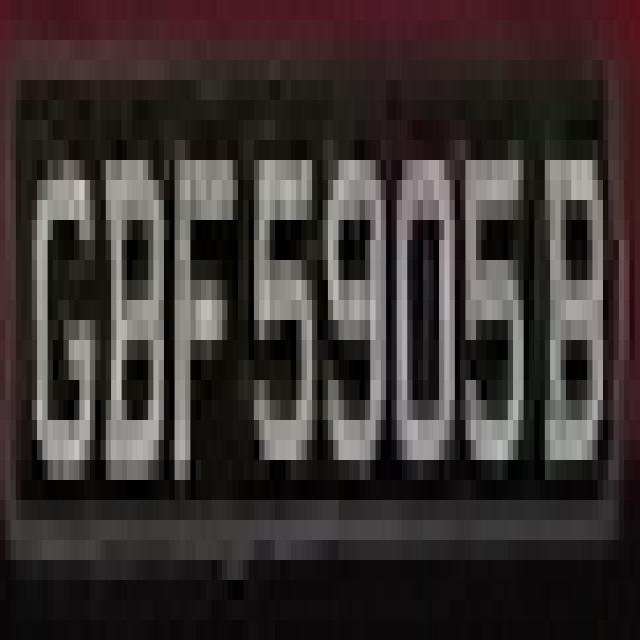0: (381, 60, 460, 460)
5: (238, 100, 317, 500), (455, 100, 524, 500)
9: (318, 120, 392, 520)
B: (539, 80, 619, 520), (95, 100, 169, 500)
F: (164, 80, 238, 560)
G: (21, 100, 106, 500)
